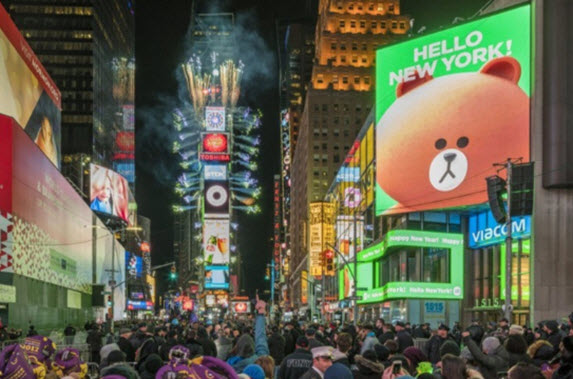line_brown: (368, 62, 545, 212)
